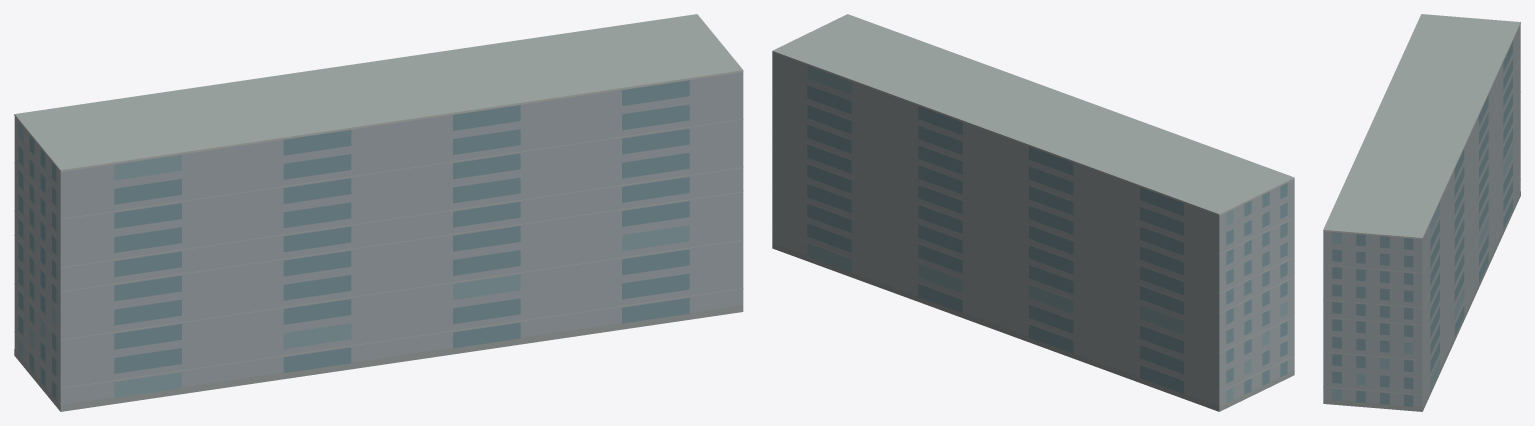
The model's file is residential-6834dc8e-2c64-4f04-b239-51084107726c.glb.
The picture shows the model from 3 angles, left to right: view 1: azimuth 30°, elevation 25°; view 2: azimuth 150°, elevation 25°; view 3: azimuth 270°, elevation 25°; orthographic projection. The views are drawn at different scales.
Parts seen in each view (by area): view 1: residential-6834dc8e-2c64-4f04-b239-51084107726c.tmp; view 2: residential-6834dc8e-2c64-4f04-b239-51084107726c.tmp; view 3: residential-6834dc8e-2c64-4f04-b239-51084107726c.tmp.
Part boxes in pixels (left/top/right/bottom): residential-6834dc8e-2c64-4f04-b239-51084107726c.tmp: left=14, top=14, right=743, bottom=411; residential-6834dc8e-2c64-4f04-b239-51084107726c.tmp: left=772, top=14, right=1294, bottom=411; residential-6834dc8e-2c64-4f04-b239-51084107726c.tmp: left=1323, top=14, right=1520, bottom=411.
Bounding box in the file's own units: 84.24 × 30.5 × 31.43.
